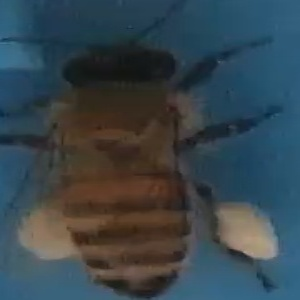bee: (8, 29, 288, 292)
